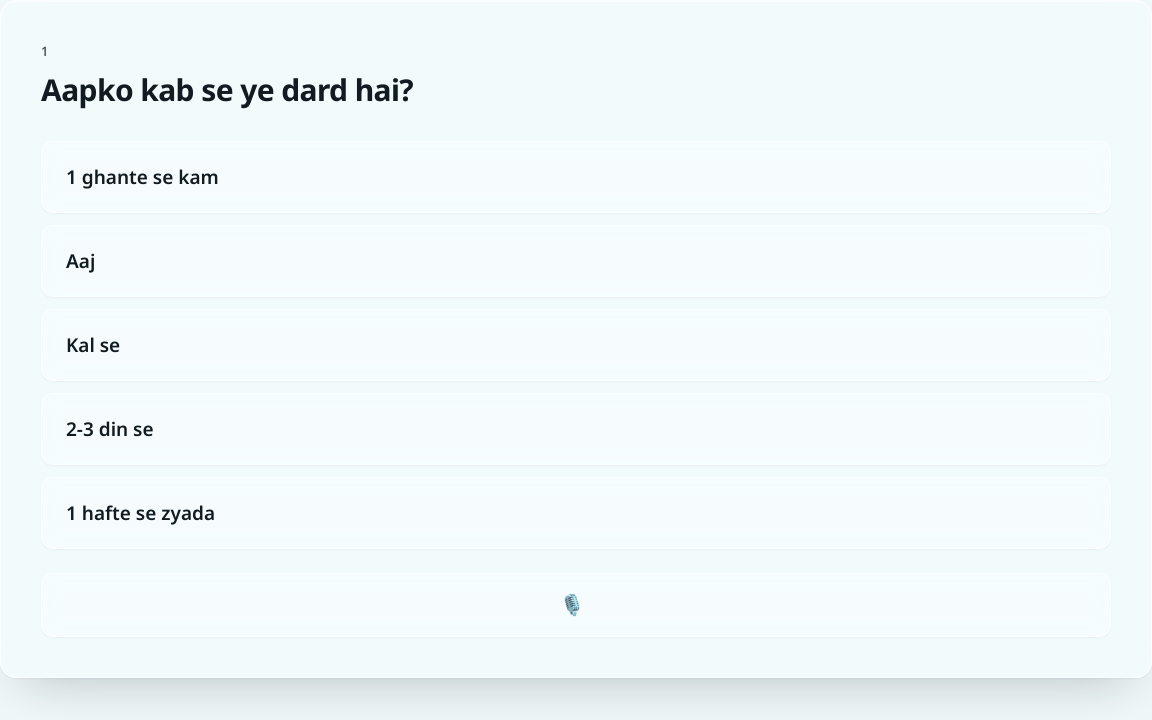
IntakeView › shows red-flag banner on the 5th answer (MSW associated=Sweating)
Click the button with test id "option-0". click: coordinates (142, 177)
box: x1=41 y1=141 x2=1111 y2=213
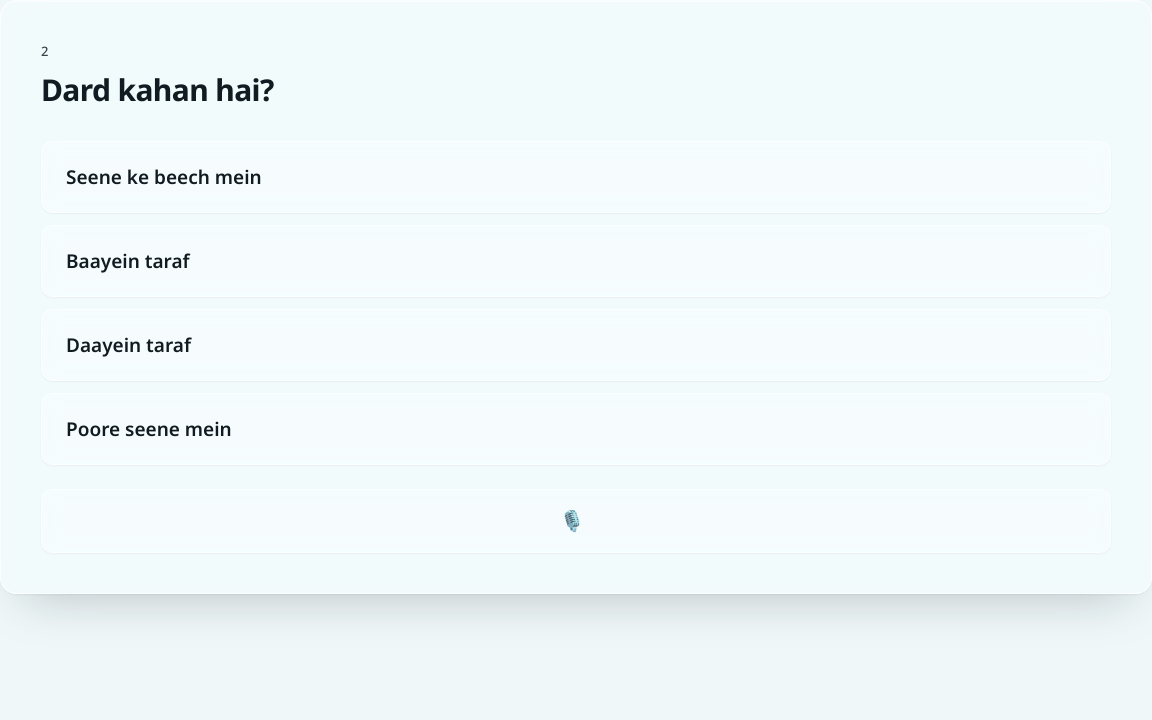
Click the button with test id "option-0". click: coordinates (164, 177)
box: x1=41 y1=141 x2=1111 y2=213
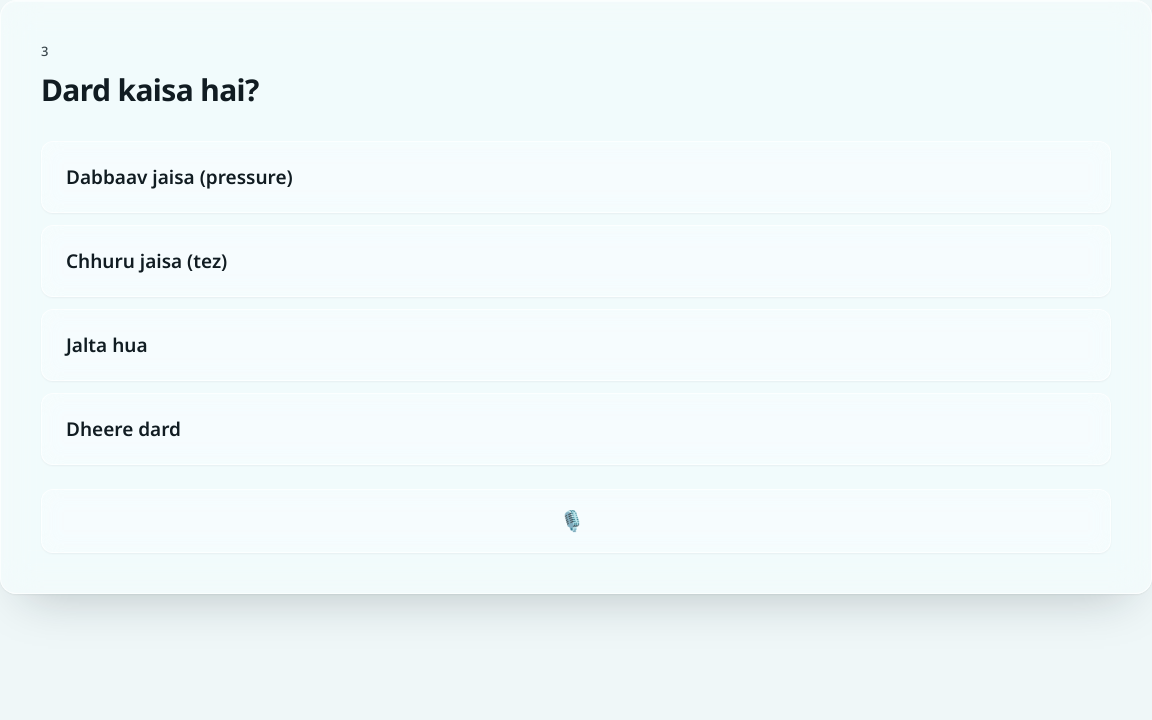
Click the button with test id "option-0". click: coordinates (179, 177)
box: x1=41 y1=141 x2=1111 y2=213
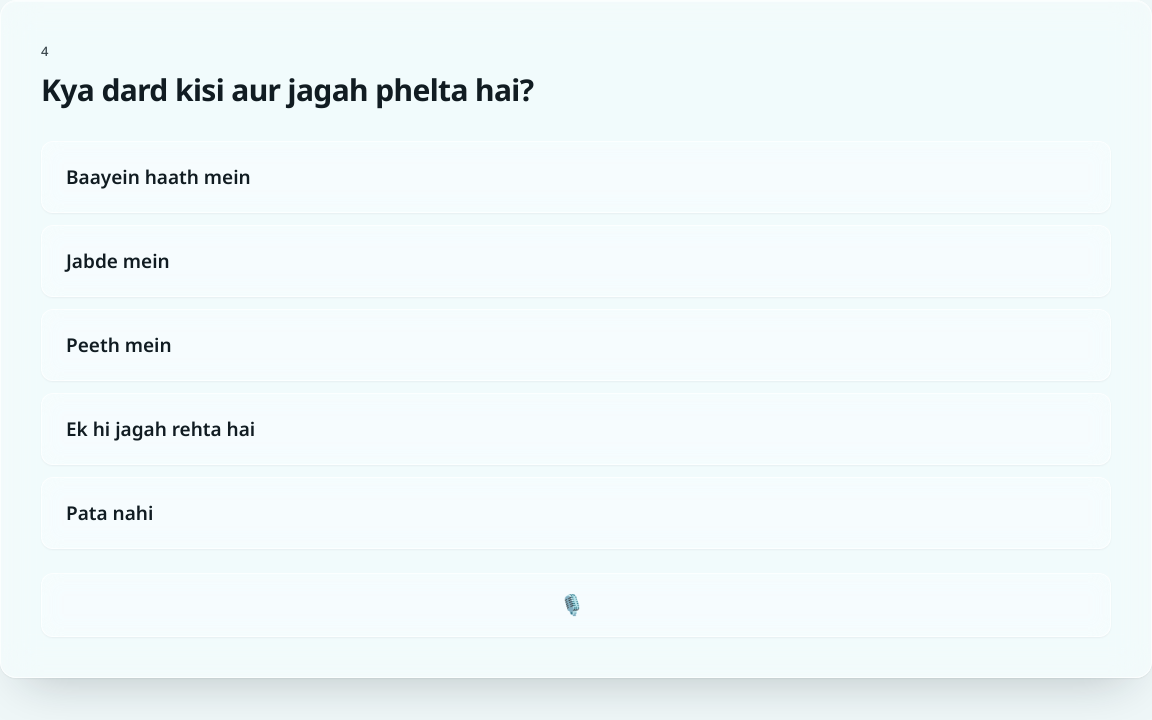
Click the button with test id "option-0". click: coordinates (158, 177)
box: x1=41 y1=141 x2=1111 y2=213
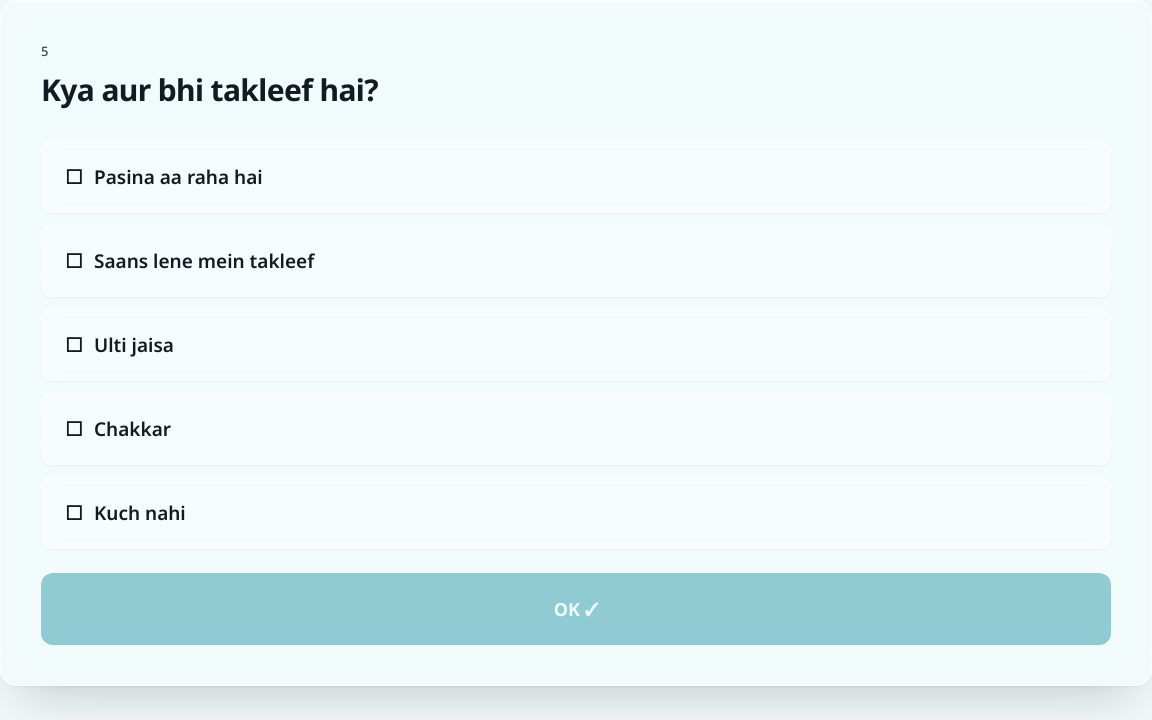
Click the button with test id "option-0". click: coordinates (178, 177)
box: x1=41 y1=141 x2=1111 y2=213
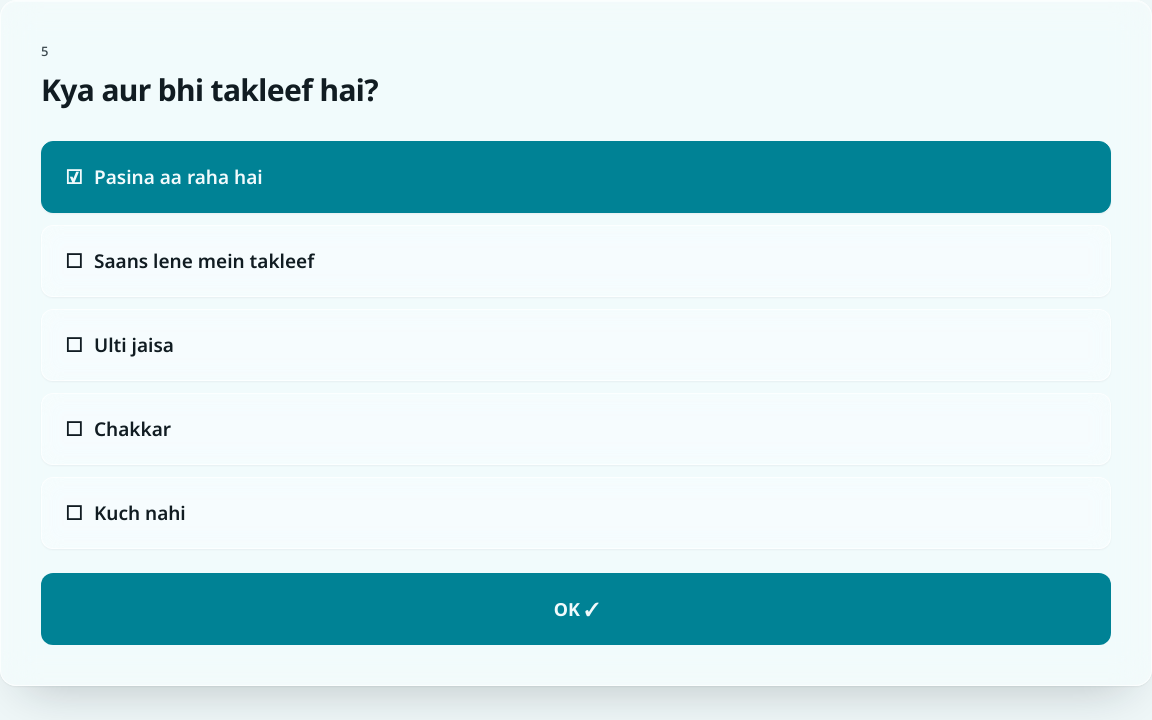
Click the button with test id "option-confirm". click: coordinates (576, 609)
box: x1=41 y1=573 x2=1111 y2=645
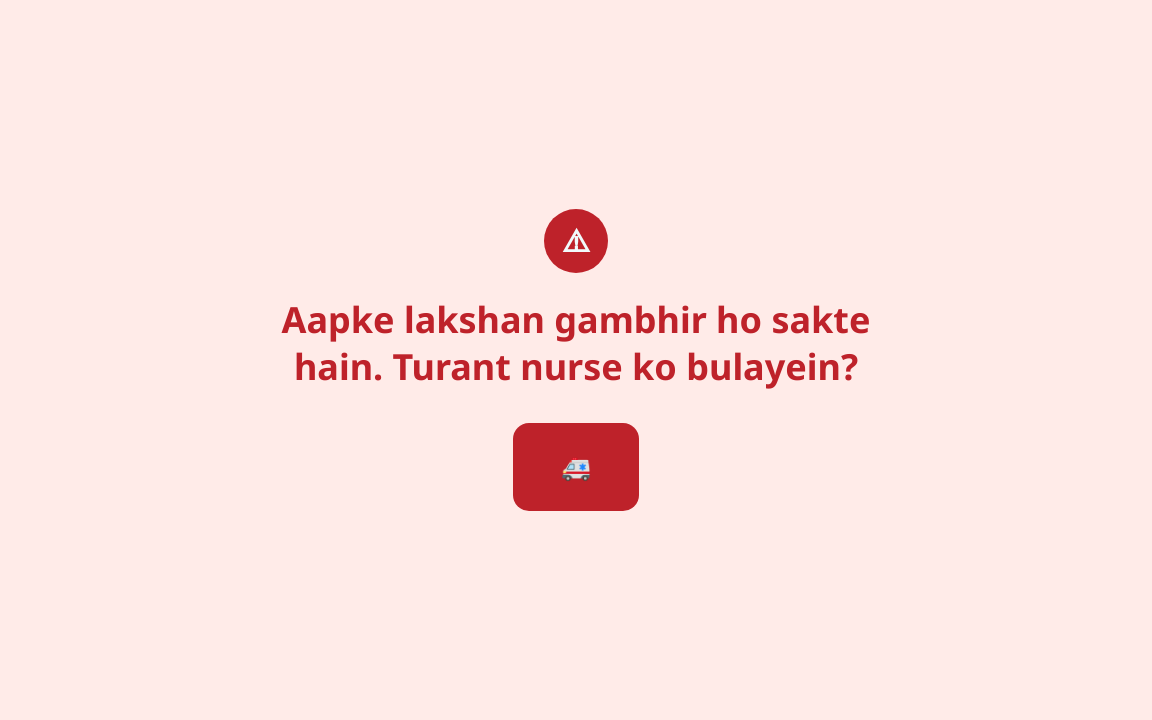
Check: the element with test id "redflag-banner" is shown, box x1=256 y1=209 x2=896 y2=391
